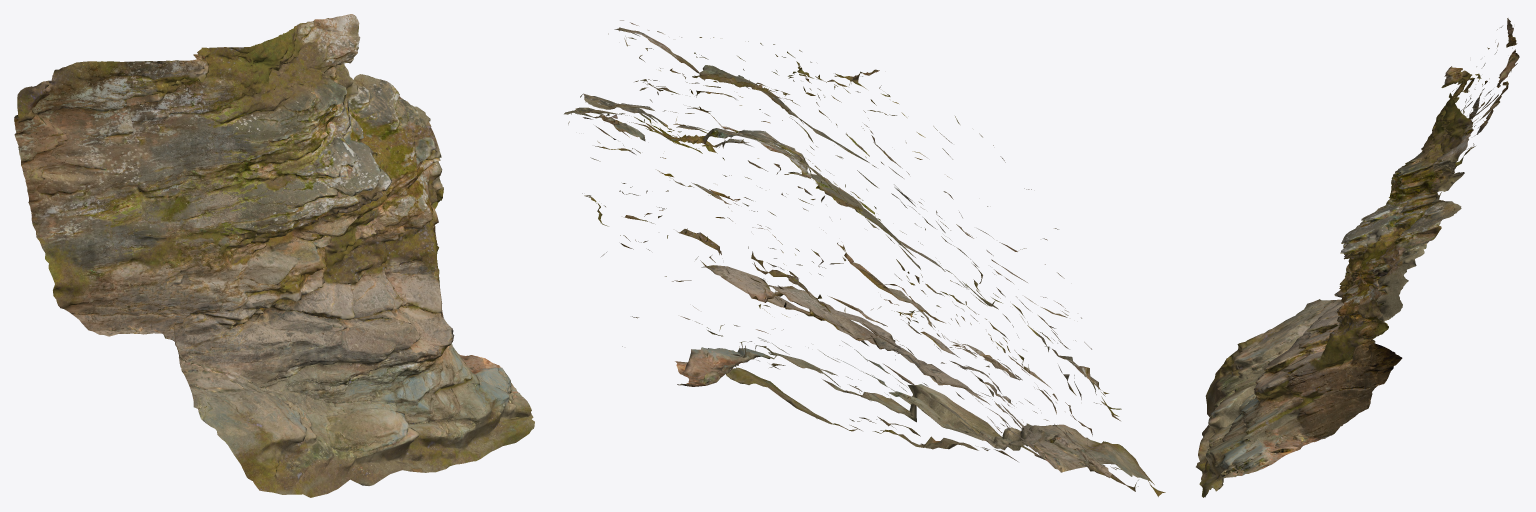
The model's file is cliff_rock.glb.
The picture shows the model from 3 angles, left to right: view 1: azimuth 30°, elevation 25°; view 2: azimuth 150°, elevation 25°; view 3: azimuth 270°, elevation 25°; orthographic projection. The views are drawn at different scales.
Parts seen in each view (by area): view 1: cliff_rock; view 2: cliff_rock; view 3: cliff_rock.
Part boxes in pixels (x1,y1,x2,y2): cliff_rock: (14, 14, 534, 497); cliff_rock: (564, 20, 1165, 496); cliff_rock: (1196, 18, 1519, 497).
Size of the model in its own units: 18.6 by 16.96 by 14.59.
Materials: 1 (1 with a texture image).
